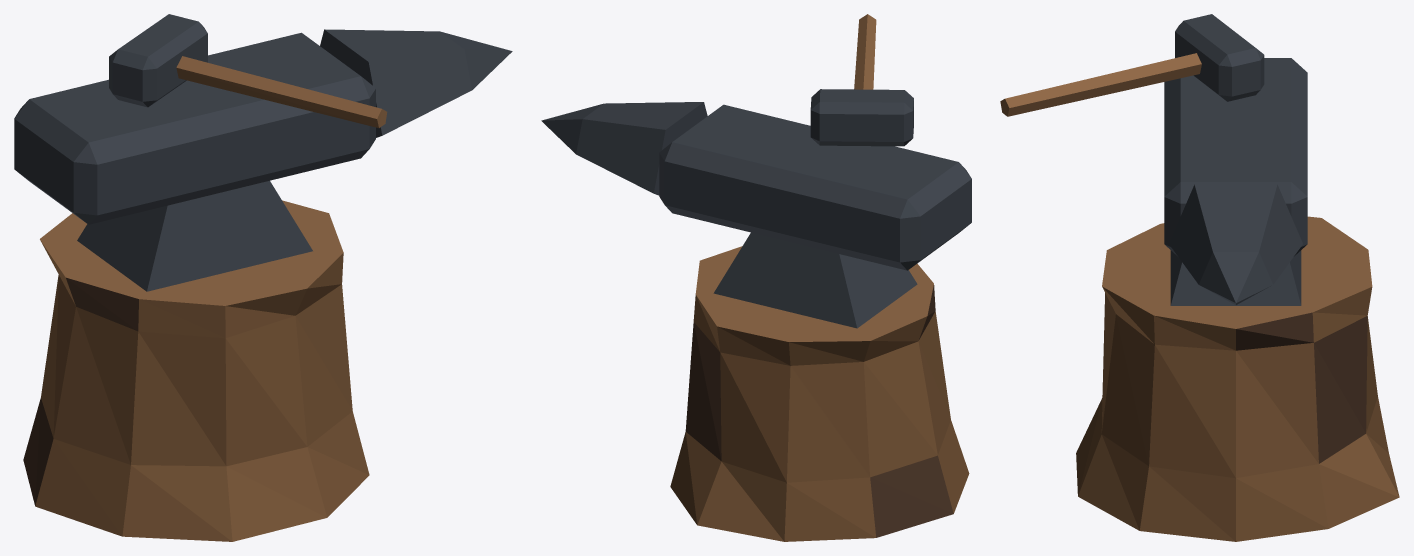
File: Anvil.obj
3 views of the same model, side by side, from view 1: azimuth 30°, elevation 25°; view 2: azimuth 150°, elevation 25°; view 3: azimuth 270°, elevation 25° (orthographic). The views are drawn at different scales.
Size of the model in its own units: 2.21 by 1.99 by 1.71.
